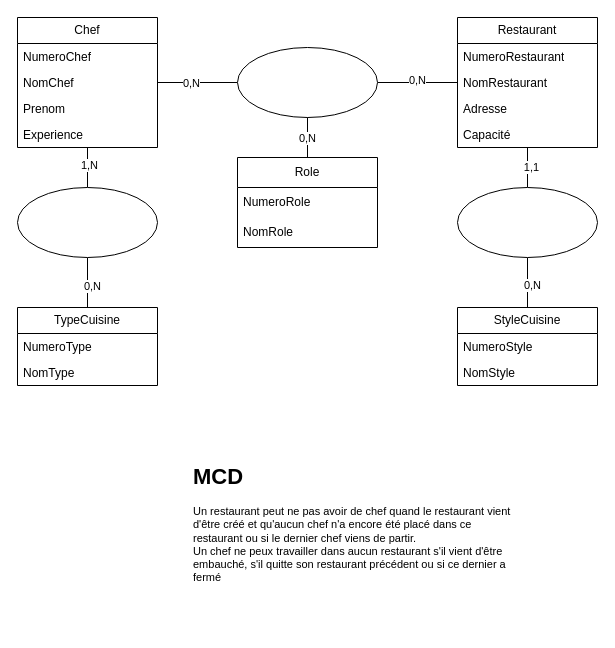
Image size: 615x648. Some labels were removed from this diagram. Each missing label, with the box of its shape:
Maitriser: (16, 186, 158, 258)
Proposer: (456, 186, 598, 258)
Travailler: (236, 46, 378, 118)
